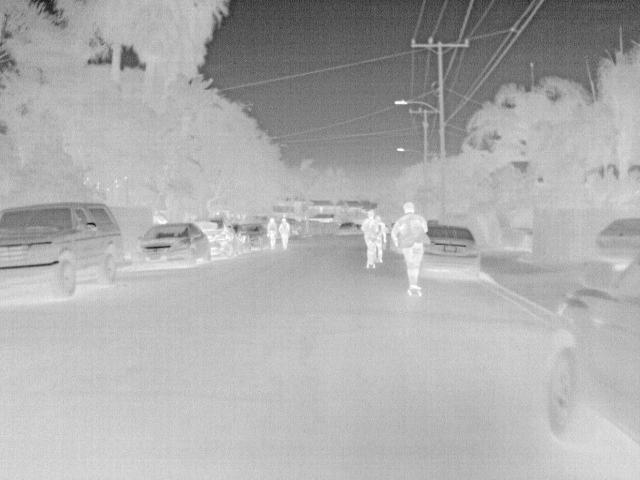car: (545, 263, 639, 447), (1, 202, 124, 303), (131, 222, 211, 270), (419, 226, 480, 281), (191, 218, 240, 262), (595, 214, 639, 260), (239, 222, 267, 253), (335, 220, 361, 239), (284, 218, 301, 236)
person: (390, 199, 428, 289), (358, 208, 384, 267), (372, 214, 386, 260), (264, 216, 278, 250), (277, 216, 291, 248)
